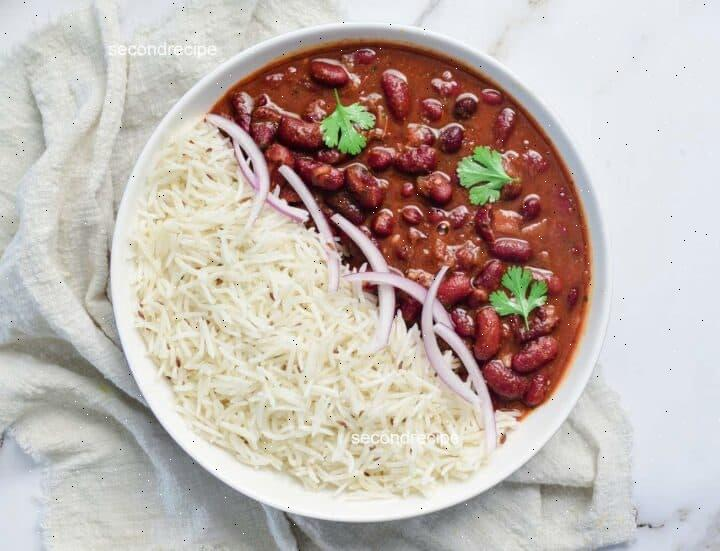rajma: (283, 59, 600, 244)
rice: (141, 254, 390, 523)
